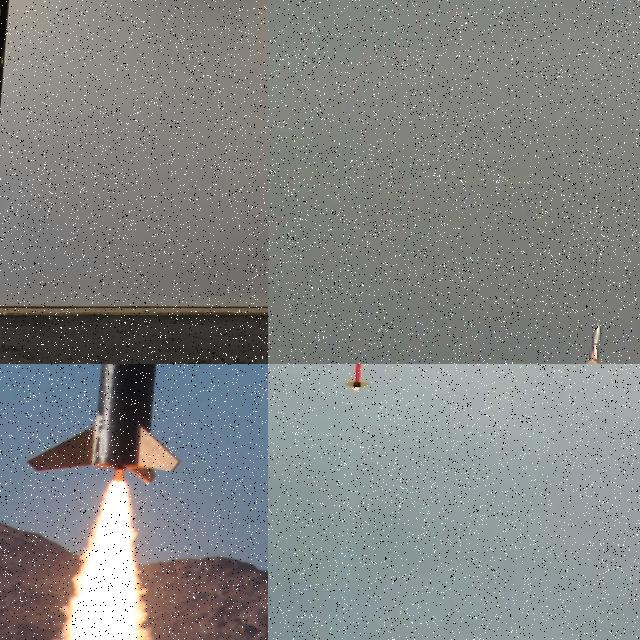Rocket: (25, 364, 182, 486), (581, 321, 605, 364), (344, 364, 370, 387)
